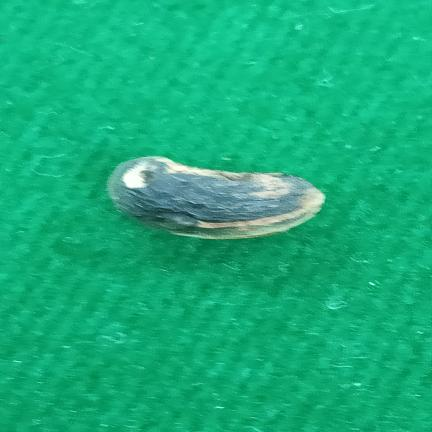partial-black: (108, 156, 325, 239)
